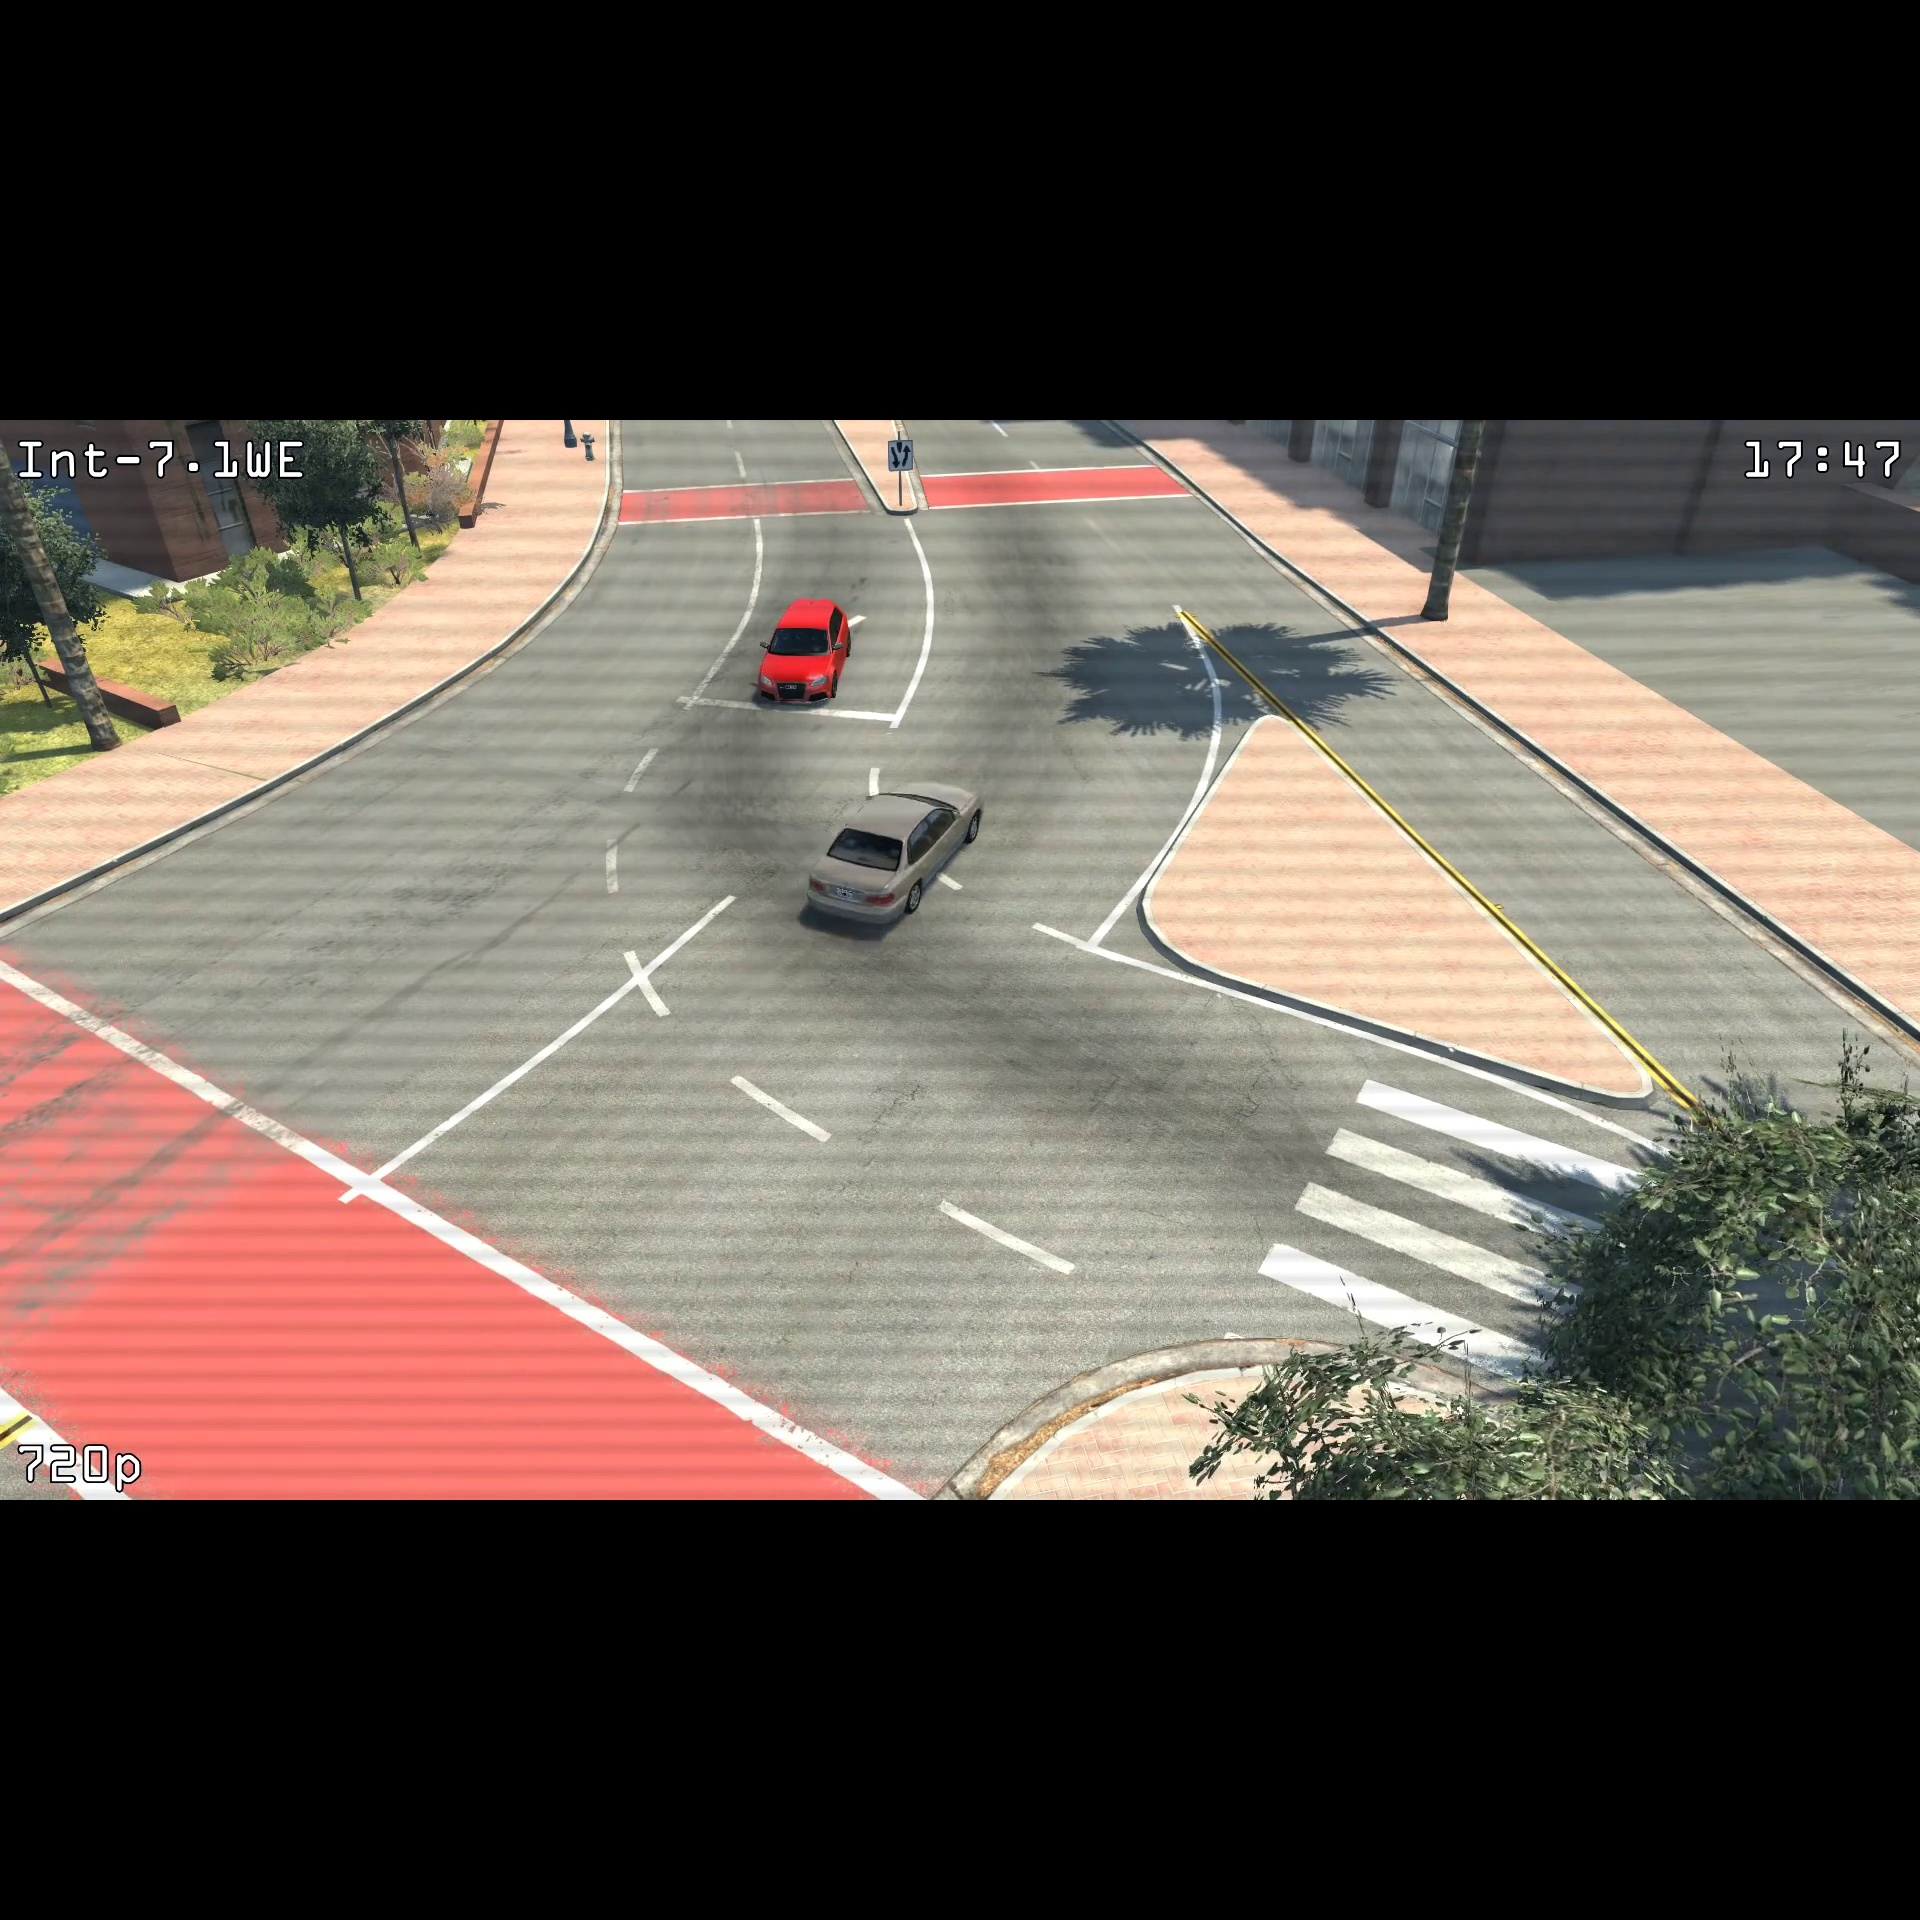vehicle: (798, 772, 988, 937), (751, 593, 855, 716)
